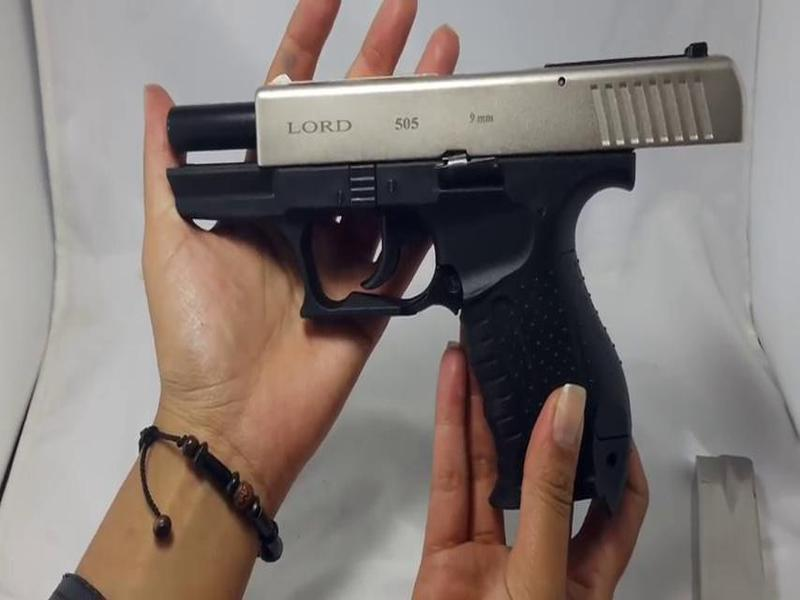Pistola: (115, 62, 750, 521)
